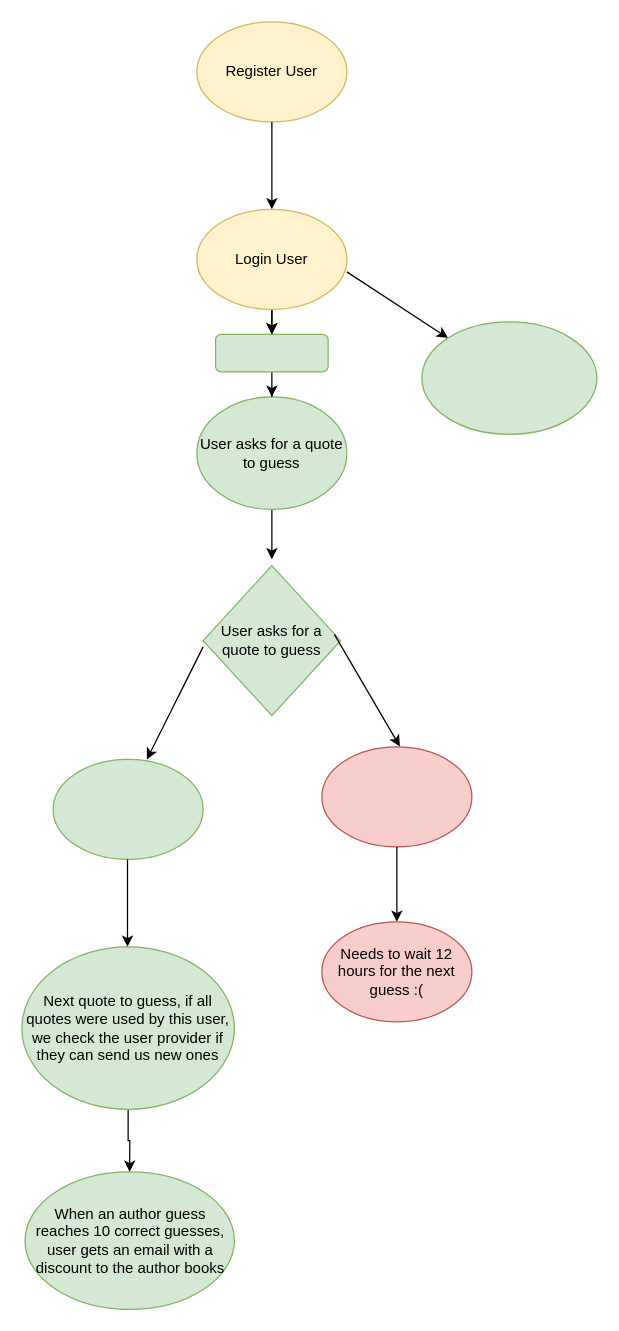
Image size: 619x1331. Some labels were removed from this diagram. Each missing label, with the centre of its shape:
Game starts: pixel 271 352
User can access leadership board and check the high score users in the game: pixel 509 377
user fails: pixel 396 796
user guesses right, his score increases: pixel 127 808
